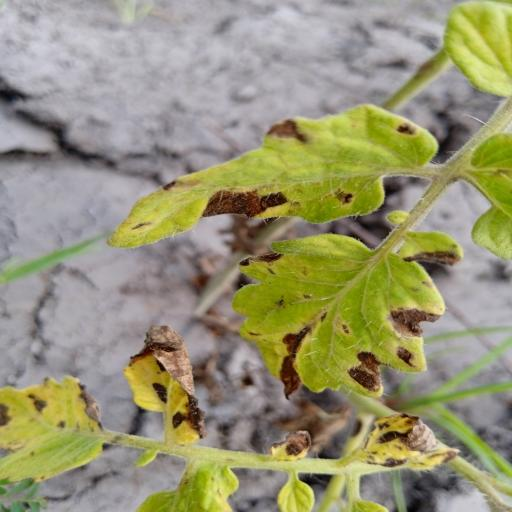Tomato_Brown_Spots: (109, 100, 441, 252), (227, 227, 464, 405)
